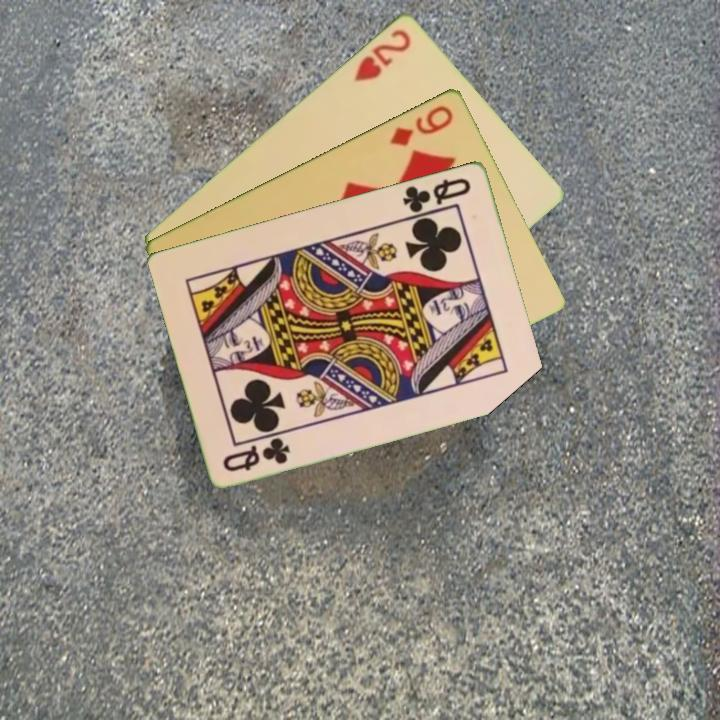2h: (350, 25, 414, 84)
9d: (386, 101, 457, 149)
Qc: (399, 173, 474, 220), (219, 433, 294, 474)
